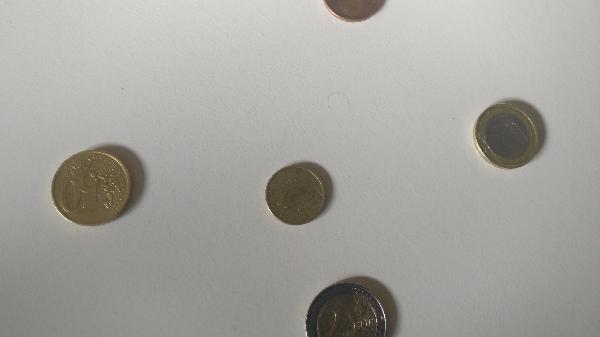Fifty Cent: (54, 154, 144, 229)
Five Cent: (321, 1, 384, 23)
One Euro: (473, 104, 536, 170)
Ten Cent: (262, 163, 334, 229)
Two Euro: (305, 282, 388, 337)
